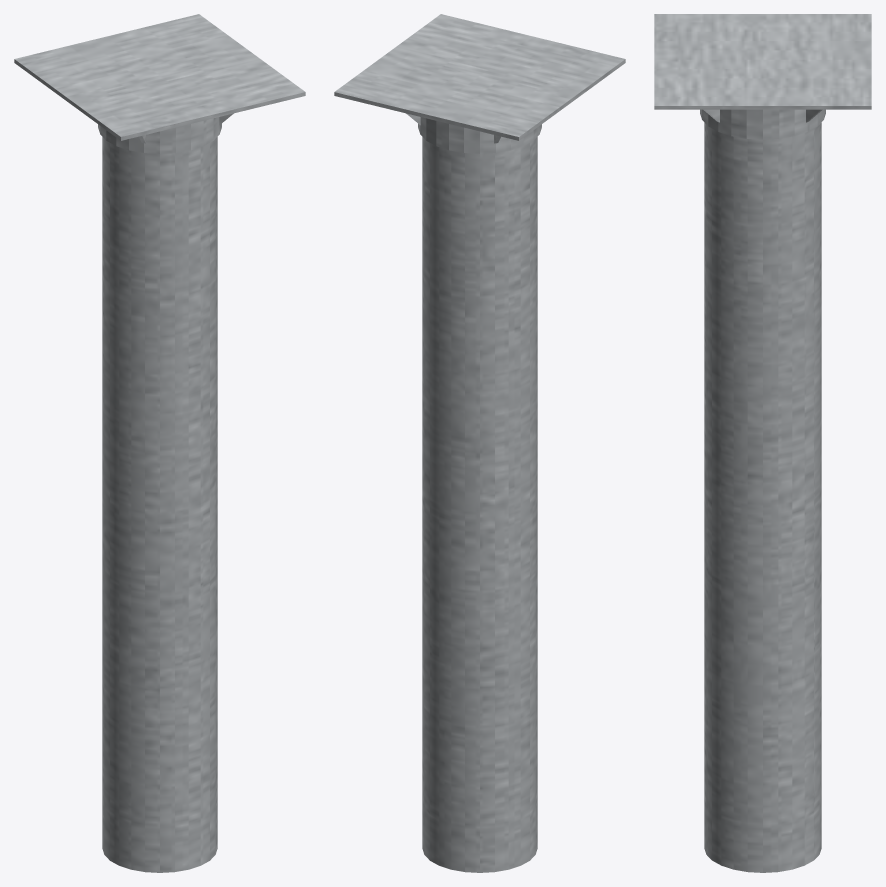
File: Свая.fbx
3 renders of one model, left to right at view 1: azimuth 30°, elevation 25°; view 2: azimuth 150°, elevation 25°; view 3: azimuth 270°, elevation 25°, orthographic.
Parts seen in each view (by area): view 1: Group1; view 2: Group1; view 3: Group1.
Part boxes in pixels (box(x1,y1,x2,y2)): Group1: box(14, 14, 305, 872); Group1: box(334, 14, 625, 872); Group1: box(654, 14, 871, 872).
Bounding box in the file's own units: 20 × 80 × 20.
